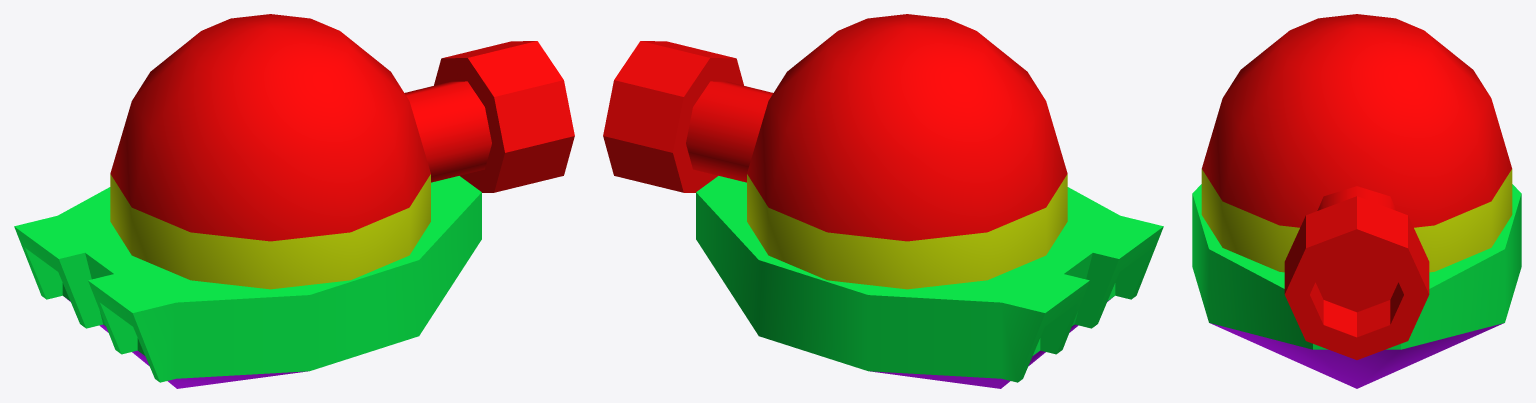
File: Enemy_Fighter_Old.FBX
3 views of the same model, side by side, from view 1: azimuth 30°, elevation 25°; view 2: azimuth 150°, elevation 25°; view 3: azimuth 270°, elevation 25° (orthographic). The views are drawn at different scales.
Parts seen in each view (by area): view 1: Enemy_Fighter; view 2: Enemy_Fighter; view 3: Enemy_Fighter.
Part boxes in pixels (bbox=[...]): Enemy_Fighter: bbox=[14, 14, 574, 388]; Enemy_Fighter: bbox=[603, 14, 1163, 388]; Enemy_Fighter: bbox=[1192, 14, 1521, 388].
Bounding box in the file's own units: 10.63 × 7.39 × 6.74.
